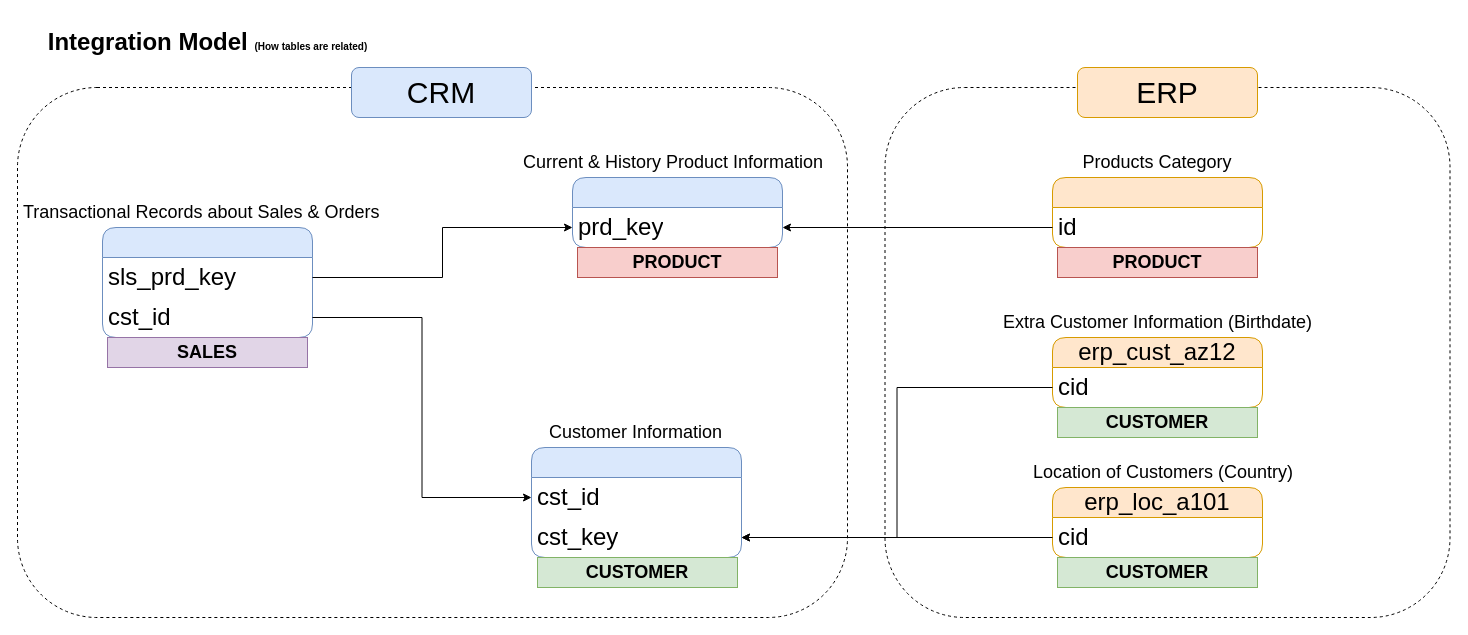
Some shapes in this 1468 by 635 pixel diagram are drawn without their labels. The box of each missing label's shape, as (x1, y1, x2, y2) in pixels:
crm_cust_info: (530, 446, 742, 558)
crm_prd_info: (572, 176, 782, 248)
crm_sales_details: (102, 226, 312, 338)
erp_px_cat_g1v2: (1052, 176, 1262, 248)
